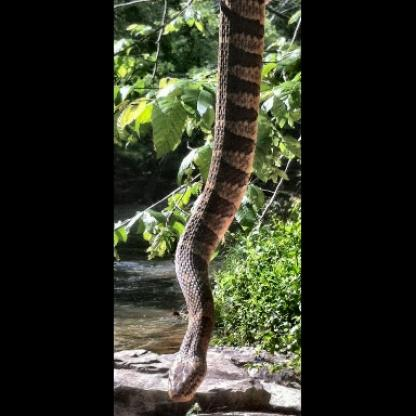Snake: (166, 0, 262, 405)
